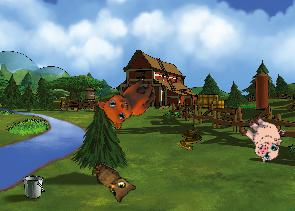bear: (93, 65, 161, 135)
owl: (84, 161, 138, 206)
pig: (235, 110, 291, 166)
